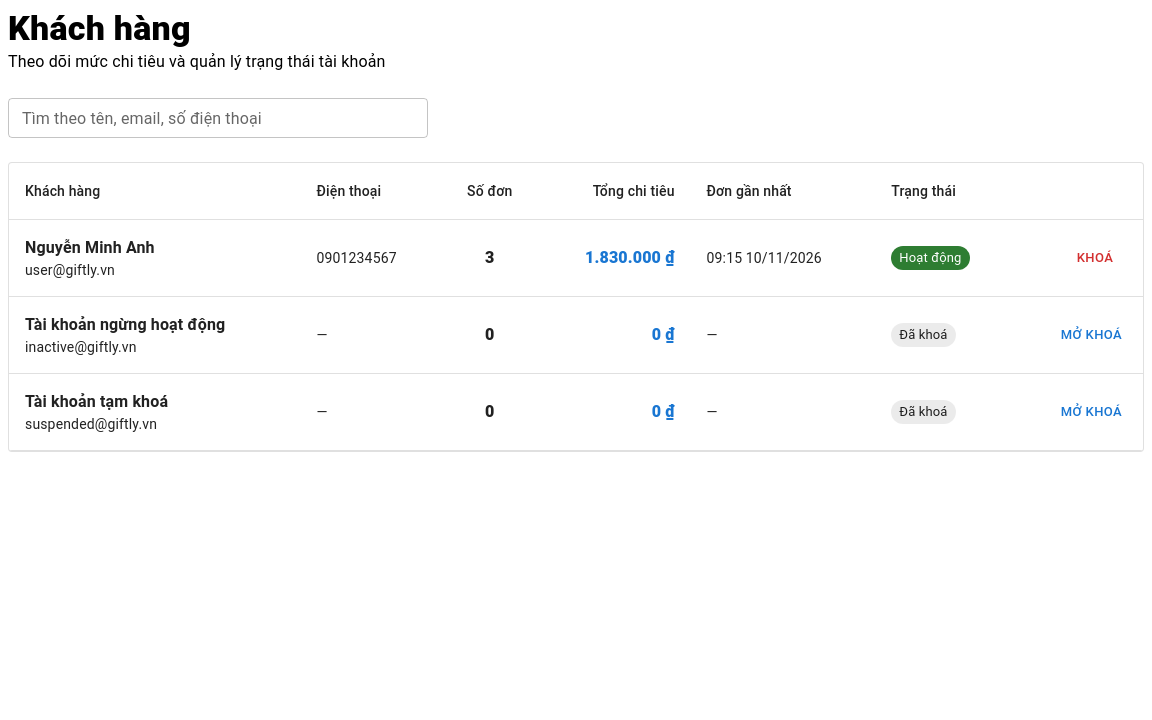
trang quản trị Khách hàng & Đánh giá › khách hàng: tìm kiếm và khoá/mở khoá tài khoản
Expected: the text "user@giftly.vn" is shown, [25,262,115,278]
Type "khongcoai" into the search field labelled "Tìm theo tên, email, số điện thoại" at (218, 118), box [8,98,428,138]
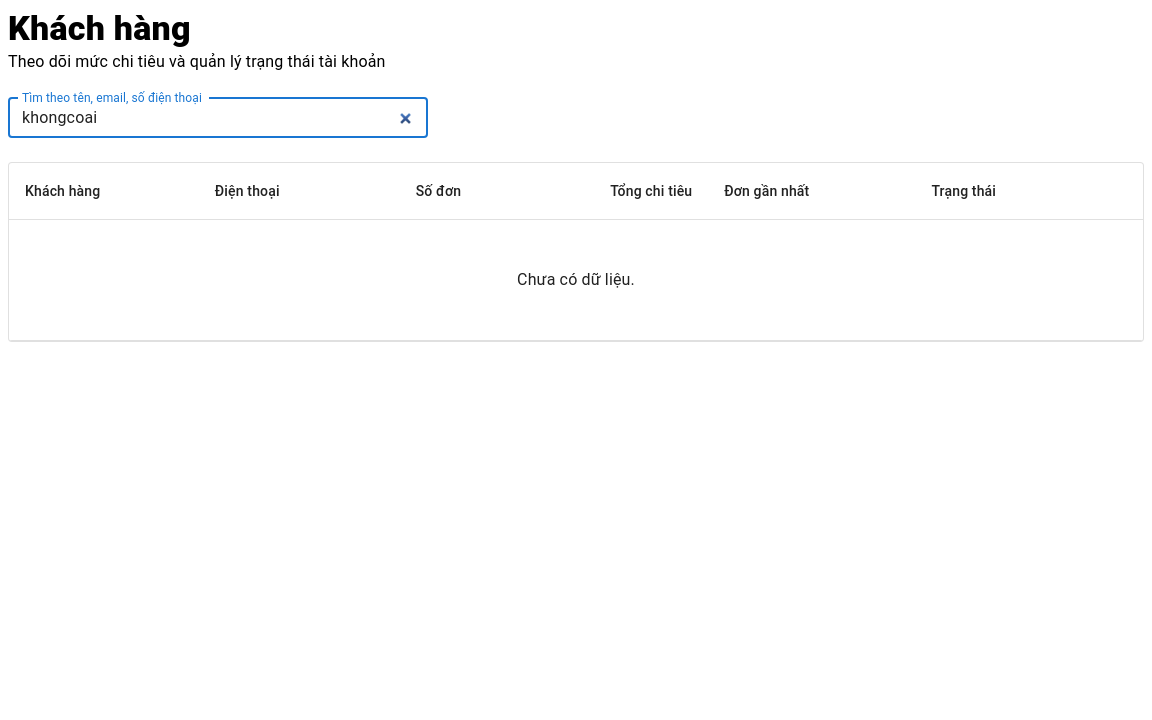
Expected: the text "Chưa có dữ liệu." is shown, [517,270,635,289]
Clear the search field labelled "Tìm theo tên, email, số điện thoại" at (218, 118), box [8,98,428,138]
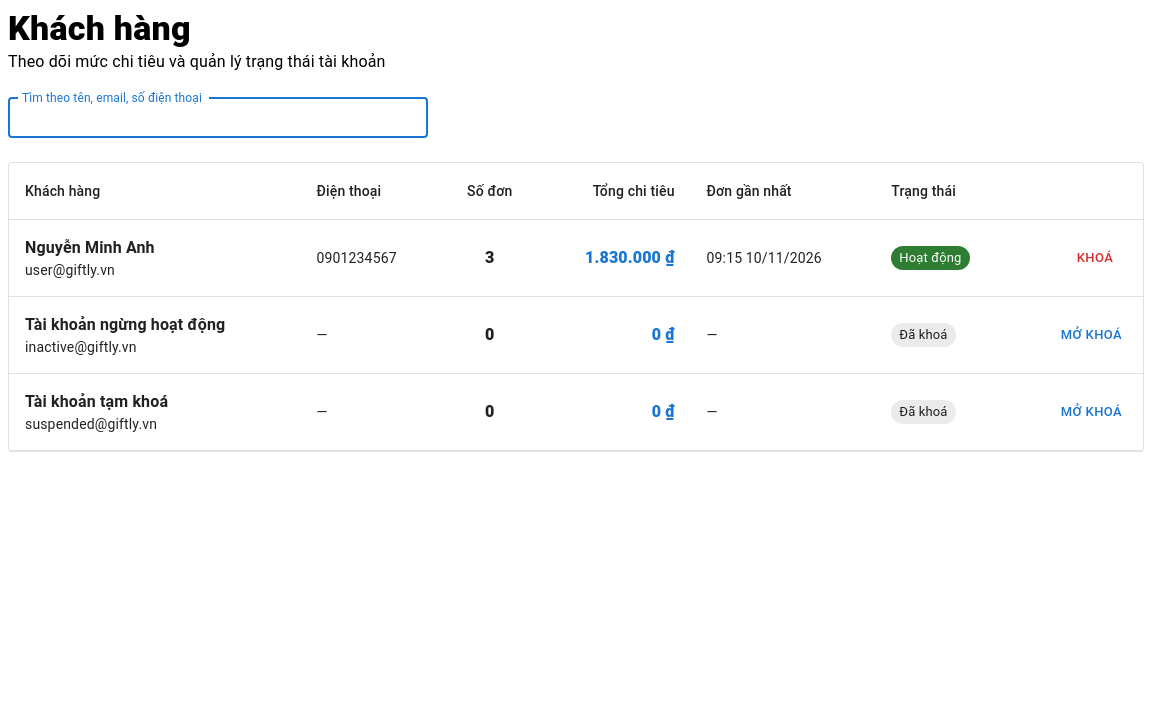
Click the button "Khoá " at (1095, 258), box [1063,243,1127,273]
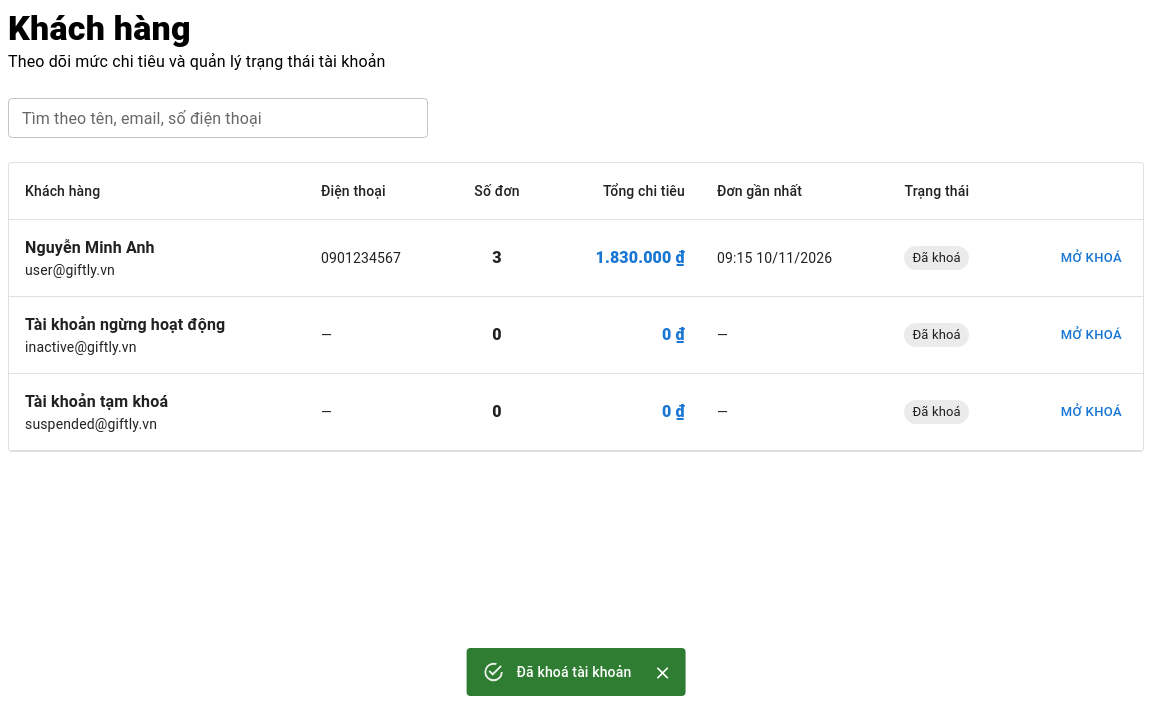
Expected: the text "Đã khoá tài khoản" is shown, [517,664,631,680]
Expected: the button "Mở khoá " in the row of "Nguyễn Minh Anh" is shown, [1056,243,1127,273]
